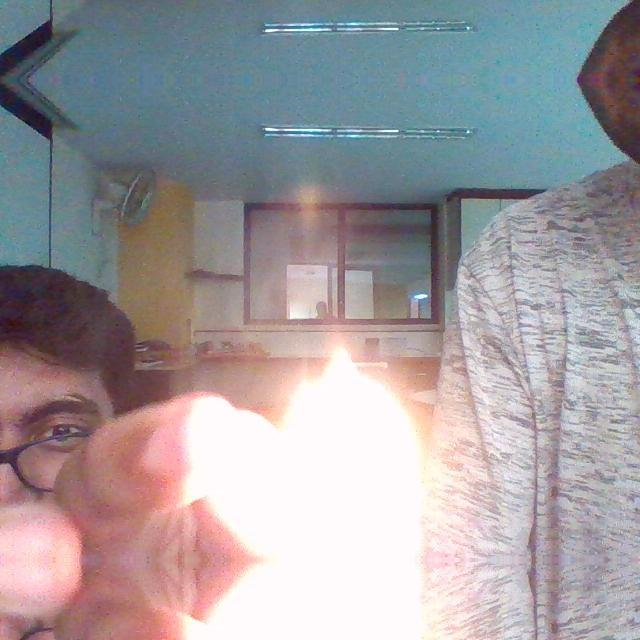smoke: (270, 344, 414, 560)
